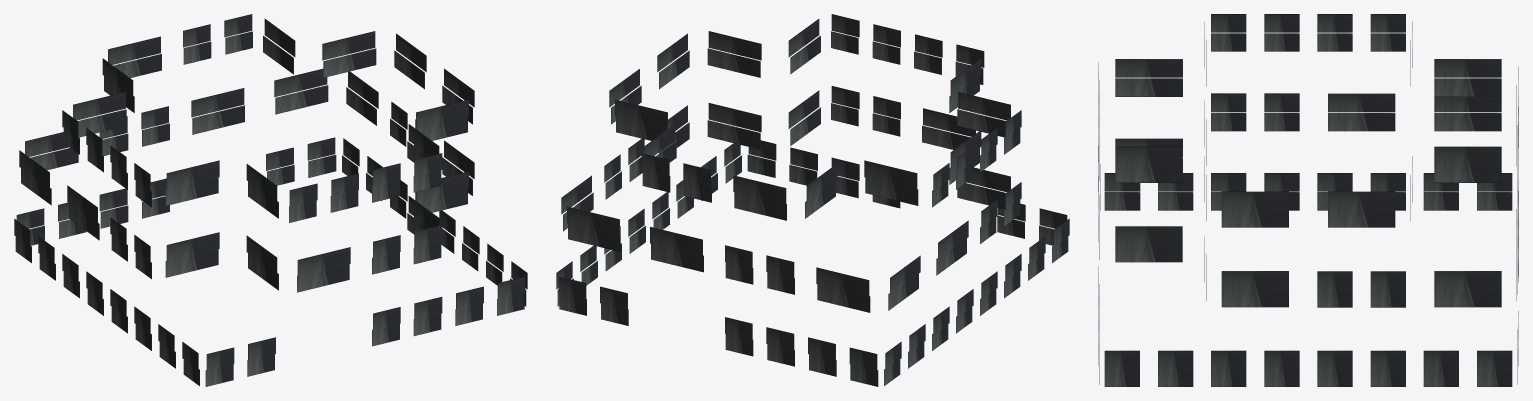
File: TRANS_Building_3stores_DoubleHouse.obj
3 renders of one model, left to right at view 1: azimuth 30°, elevation 25°; view 2: azimuth 150°, elevation 25°; view 3: azimuth 270°, elevation 25°, orthographic. The views are drawn at different scales.
Visible parts, largest first — view 1: TRANS_Building_3stores_DoubleHouse; view 2: TRANS_Building_3stores_DoubleHouse; view 3: TRANS_Building_3stores_DoubleHouse.
Part boxes in pixels (left/top/right/bottom): TRANS_Building_3stores_DoubleHouse: left=14, top=14, right=527, bottom=386; TRANS_Building_3stores_DoubleHouse: left=556, top=14, right=1069, bottom=386; TRANS_Building_3stores_DoubleHouse: left=1098, top=14, right=1518, bottom=386.
Bounding box in the file's own units: 5.2 × 2.67 × 5.2.
